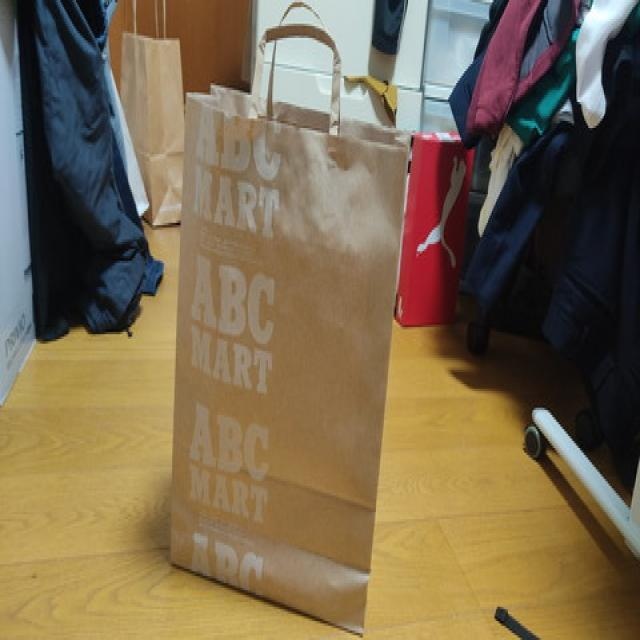paper bag: (169, 2, 409, 640)
